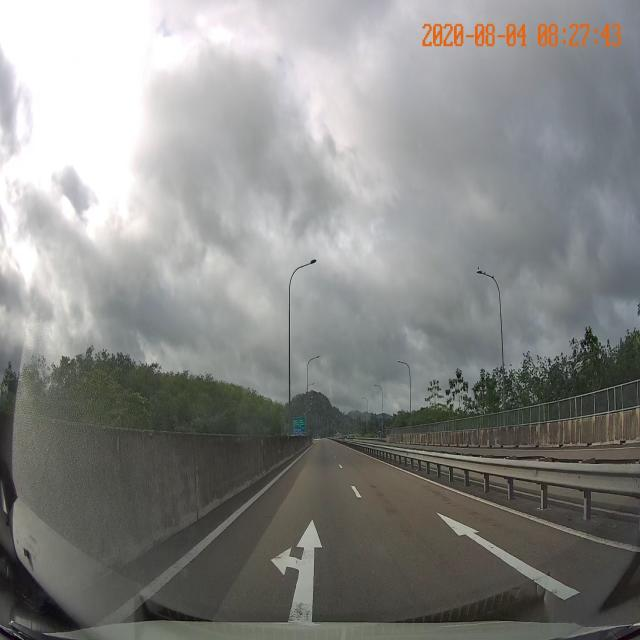forward_lft: (133, 504, 435, 612)
